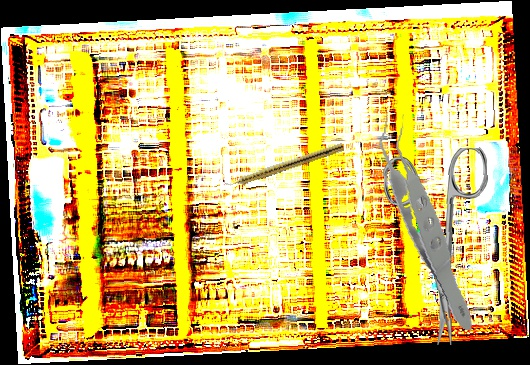Handpiece: (223, 140, 345, 191)
Iris Scissors: (382, 147, 494, 347)
Tissue Forceps: (352, 109, 505, 331)
